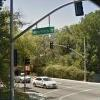Tree: (59, 19, 100, 83)
